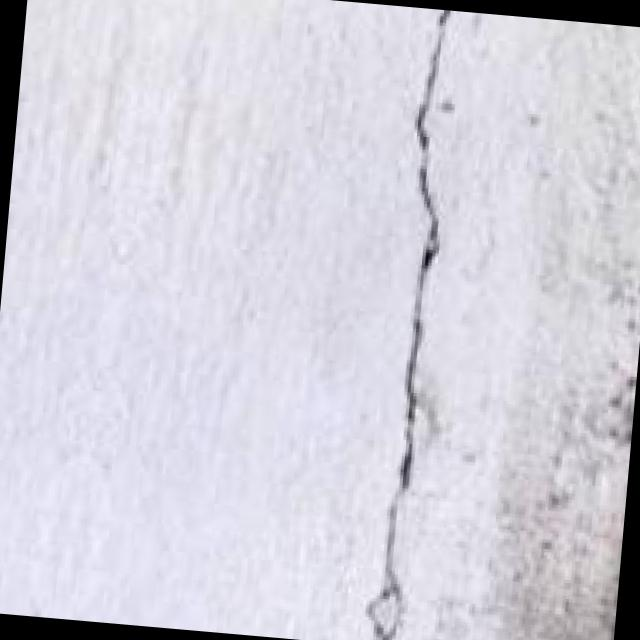crack: (305, 5, 554, 640)
